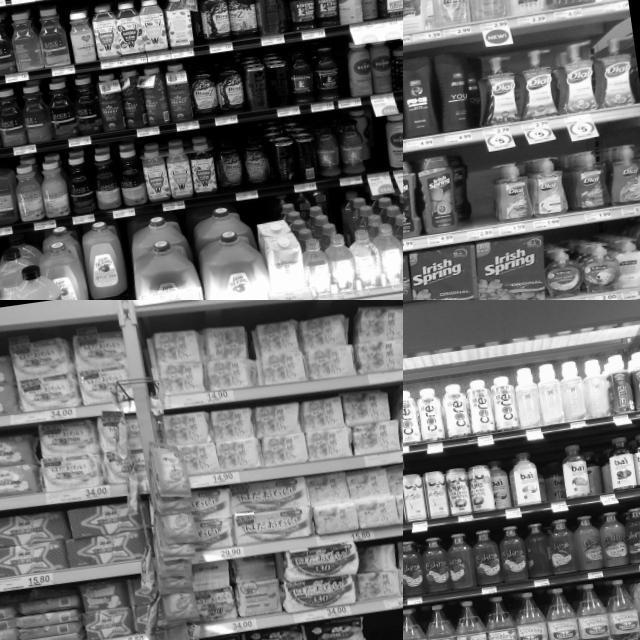empty: (468, 150, 498, 238), (366, 609, 403, 640)
